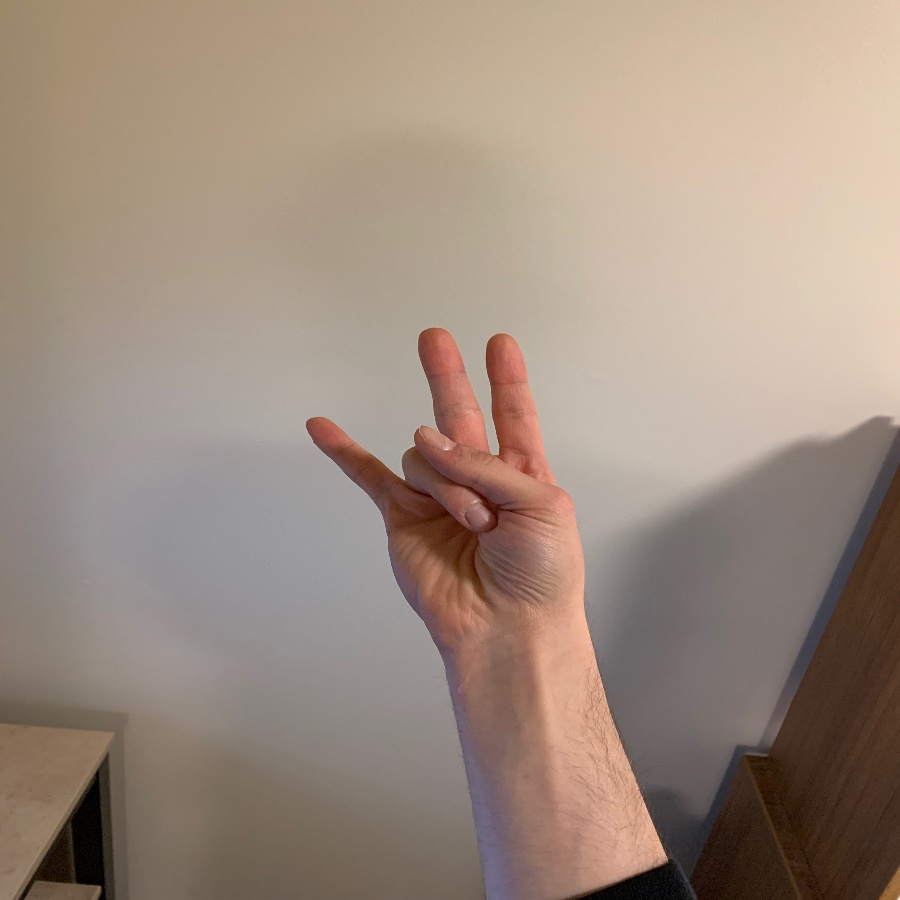tip: (410, 324, 466, 374), (415, 423, 465, 470), (483, 331, 528, 380), (303, 410, 344, 452), (452, 496, 496, 530)
